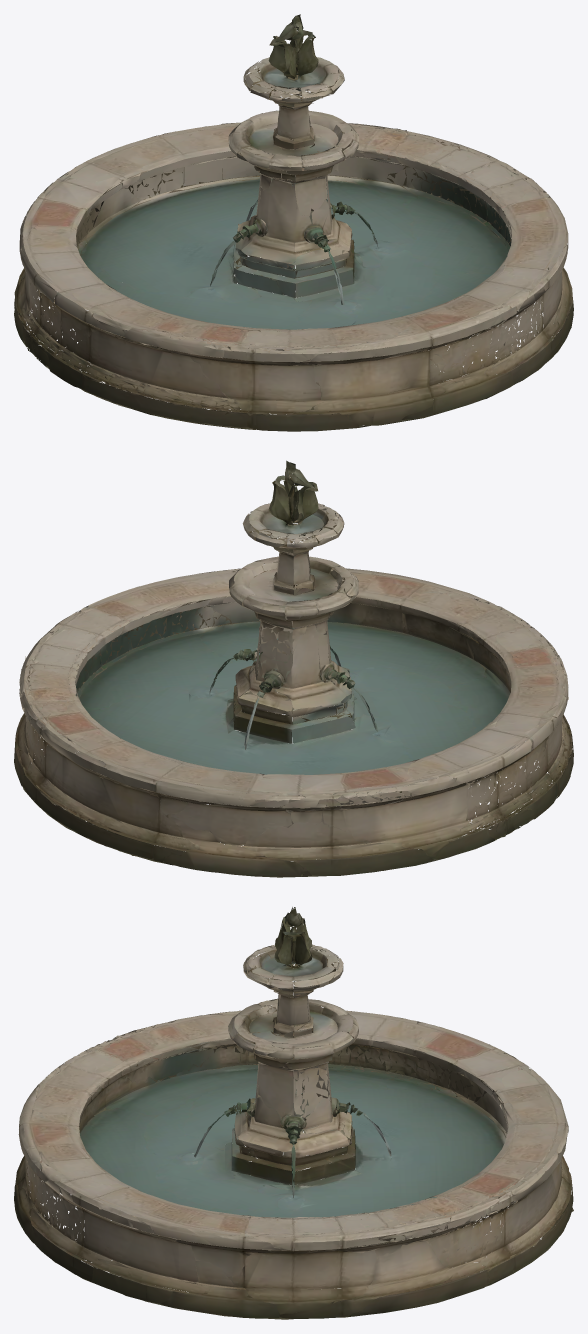
Rendered from reunion_fountain_web.glb.
3 views of the same model, one above another, from view 1: azimuth 30°, elevation 25°; view 2: azimuth 150°, elevation 25°; view 3: azimuth 270°, elevation 25° (orthographic).
Parts seen in each view (by area): view 1: reunion_fountain; view 2: reunion_fountain; view 3: reunion_fountain.
Boxes of the visible parts, x1,y1,x2,y2 form: reunion_fountain: [14, 14, 573, 431]; reunion_fountain: [14, 460, 573, 877]; reunion_fountain: [14, 907, 573, 1319].
Bounding box in the file's own units: 4.6 × 2.7 × 4.61.
1 material, 1 textured.
